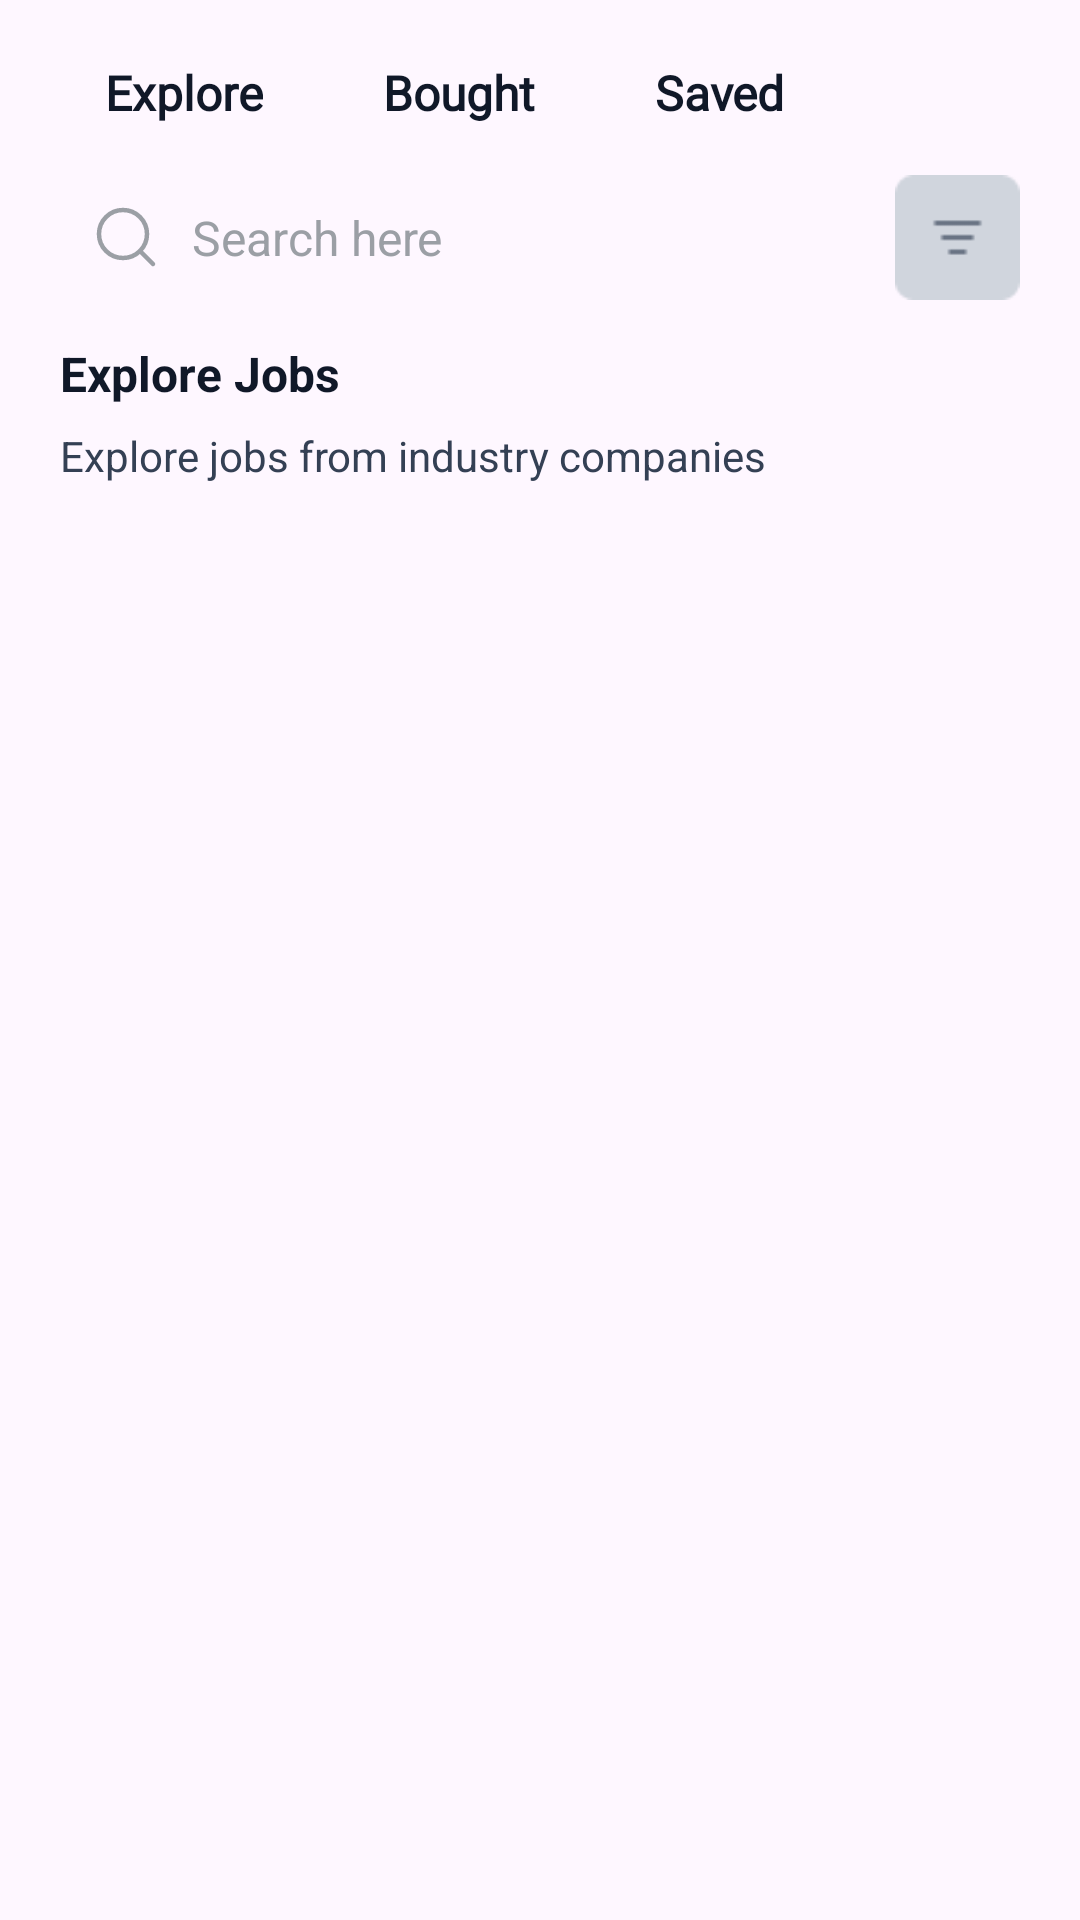

Named icons in this screenshot (1080*1920) and their bounding boxes, (x1, y1, x2, y2):
filter: (895, 175, 1020, 300)
